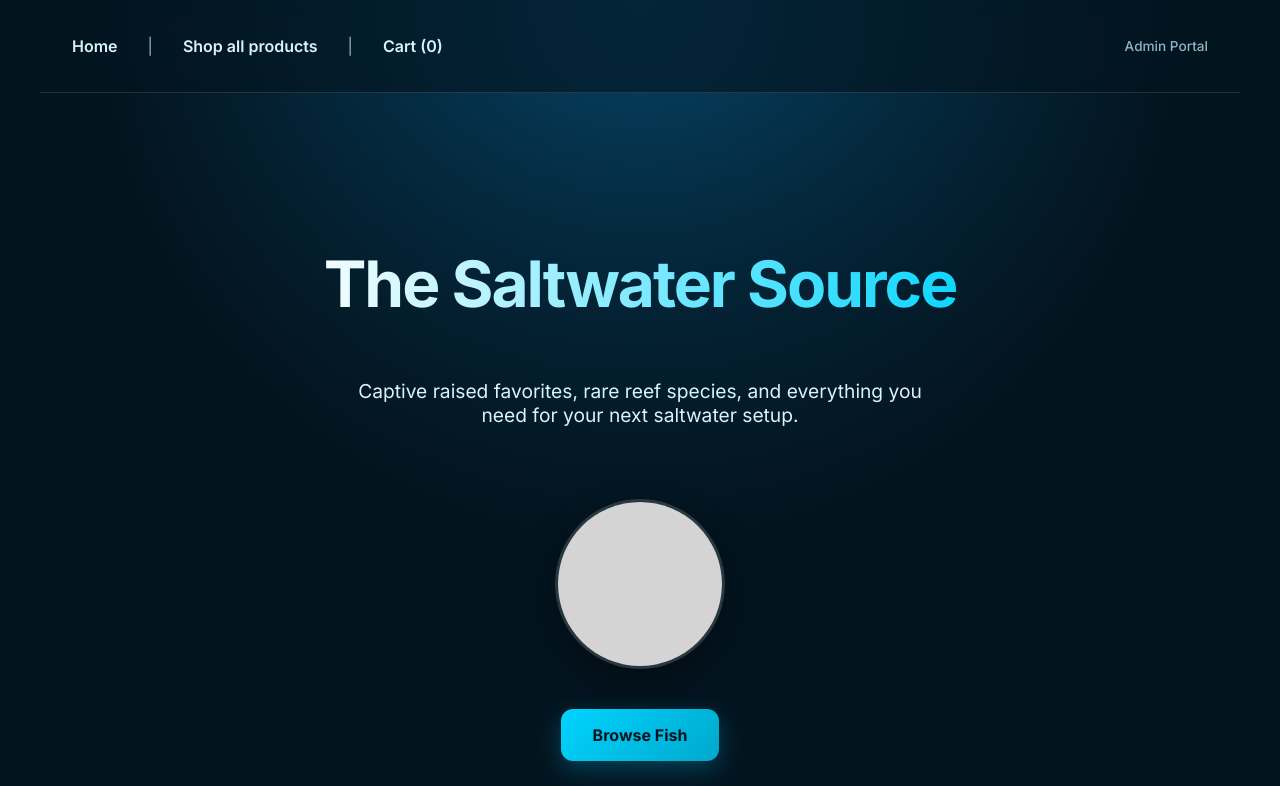
Client-side routing › navigates between routes via the navbar
Check: the heading "The Saltwater Source" is shown, box [288,213,992,355]
Click the link "Shop all products": (250, 46) [183,34,318,58]
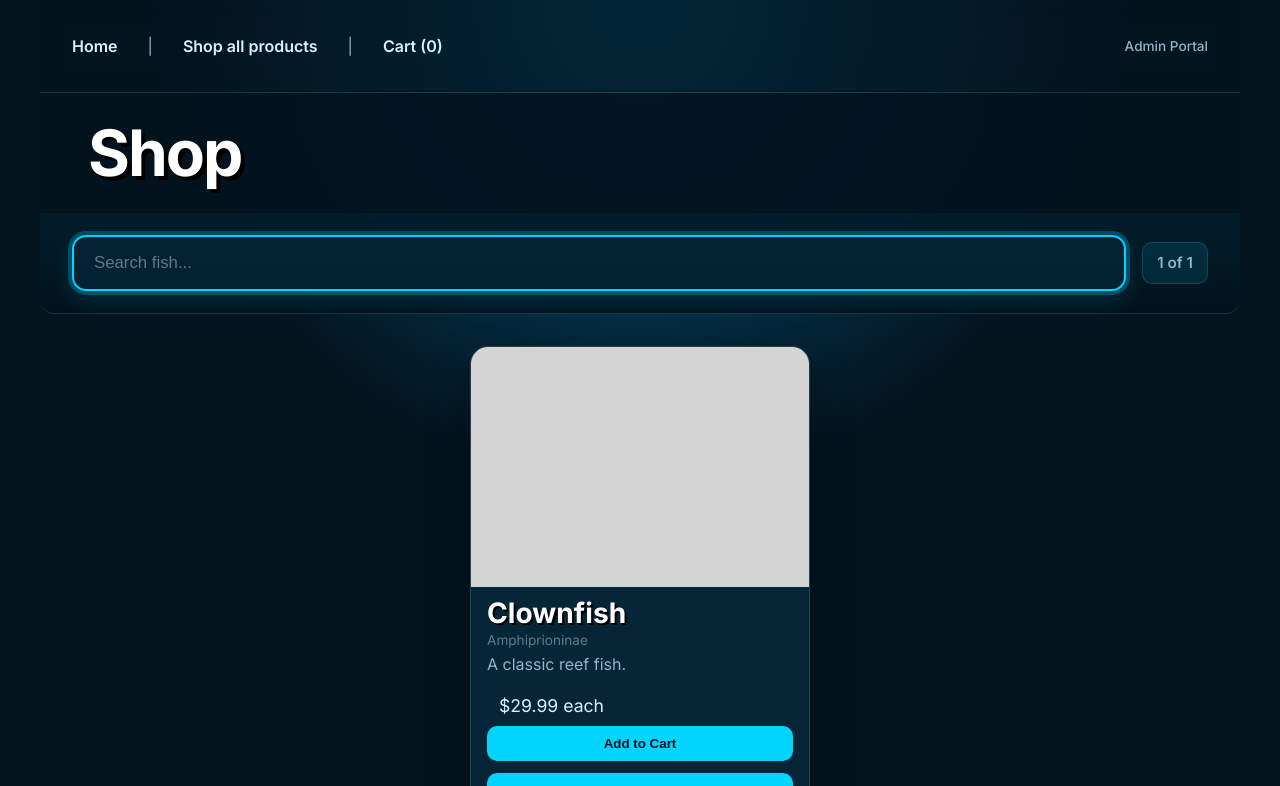
Check: the field with placeholder "Search fish..." is shown, box [72,235,1126,291]
